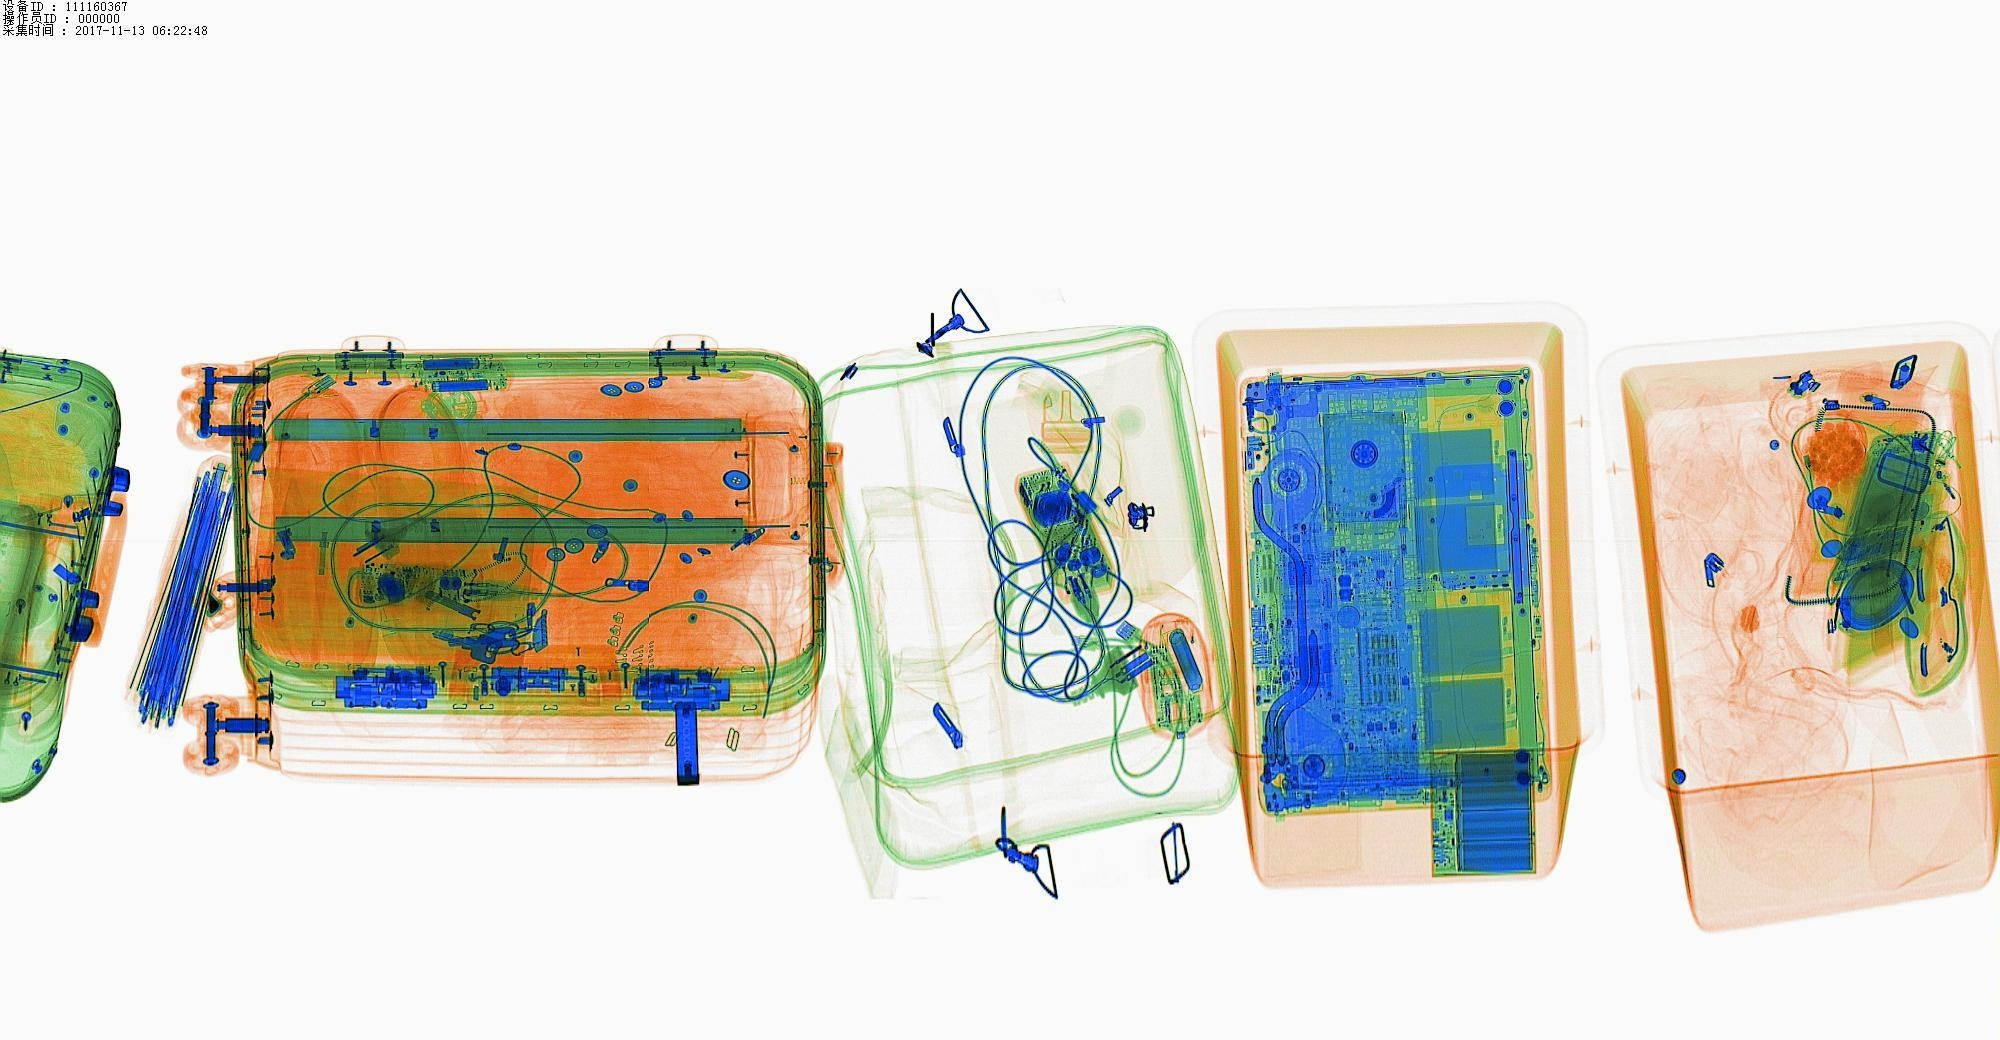core: (1434, 761, 1536, 875)
